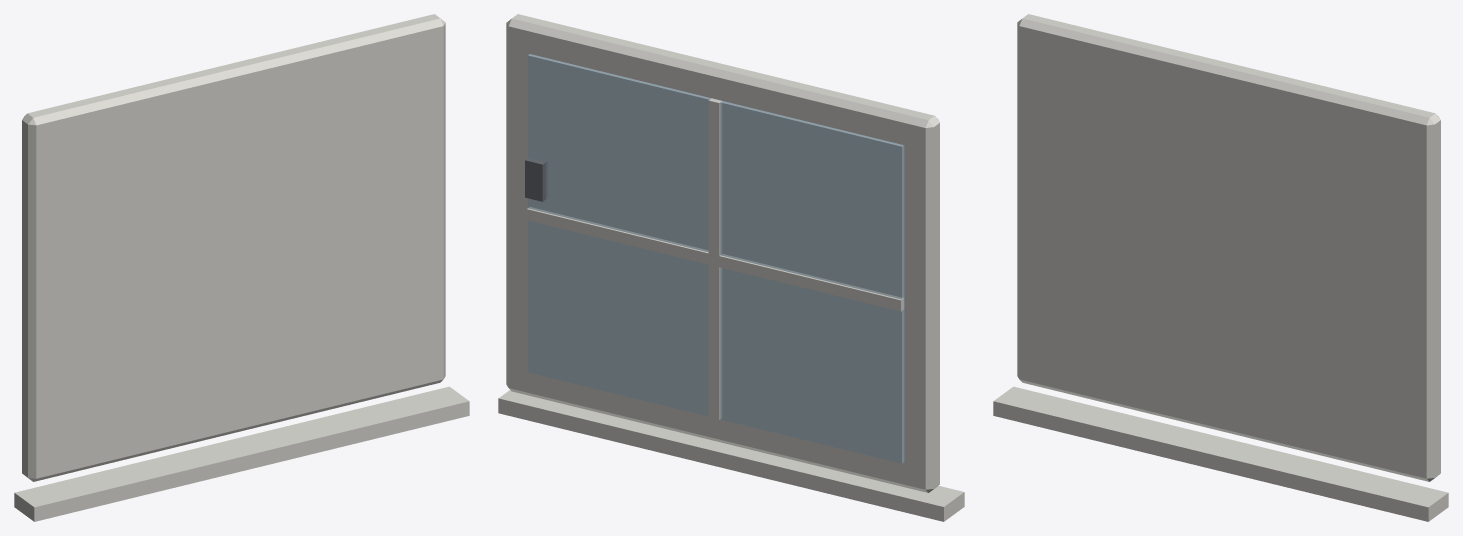
Rendered from window_unit.glb.
3 renders of one model, left to right at view 1: azimuth 30°, elevation 25°; view 2: azimuth 150°, elevation 25°; view 3: azimuth 330°, elevation 25°, orthographic. The views are drawn at different scales.
Visible parts, largest first — view 1: frame, sill; view 2: frame, glass, sill, bar_h, bar_v, latch; view 3: frame, sill.
Part boxes in pixels (x1=…): frame: x1=22, y1=14, x2=445, y2=481; sill: x1=14, y1=386, x2=469, y2=521; frame: x1=506, y1=14, x2=939, y2=492; glass: x1=528, y1=54, x2=904, y2=463; sill: x1=498, y1=390, x2=964, y2=521; bar_h: x1=527, y1=207, x2=904, y2=311; bar_v: x1=708, y1=98, x2=721, y2=419; latch: x1=525, y1=157, x2=547, y2=201; frame: x1=1017, y1=14, x2=1440, y2=481; sill: x1=993, y1=386, x2=1448, y2=521.
Size of the model in its own units: 1.25 by 1.07 by 0.145.
